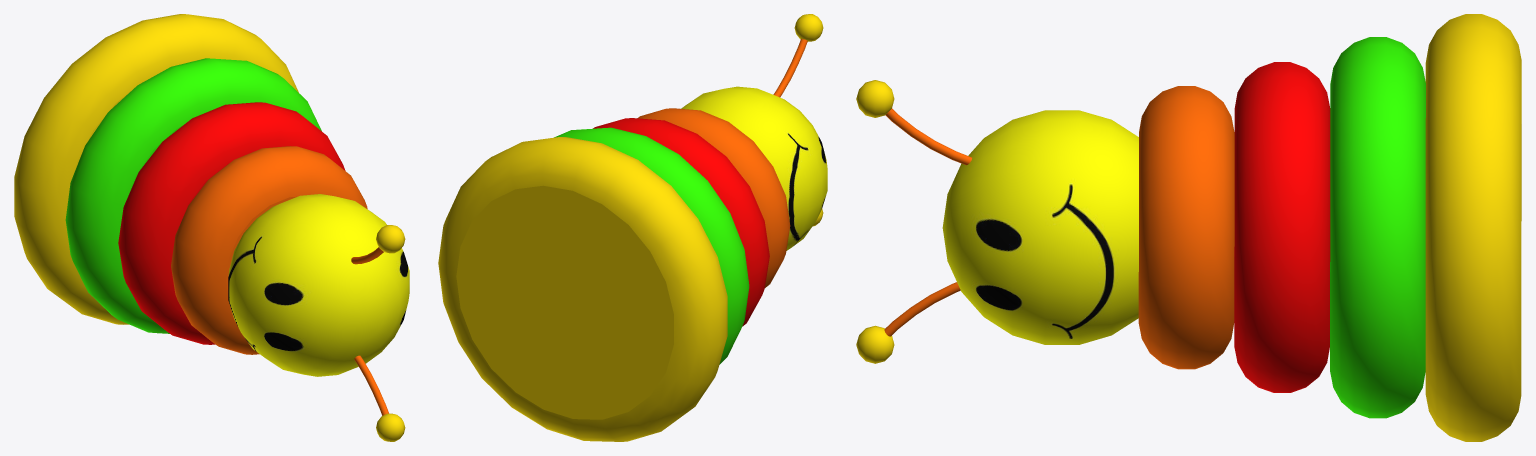
Rendered from smiley.obj.
The picture shows the model from 3 angles, left to right: view 1: azimuth 30°, elevation 25°; view 2: azimuth 150°, elevation 25°; view 3: azimuth 270°, elevation 25°; orthographic projection. The views are drawn at different scales.
Visible parts, largest first — view 1: Sphere001_5, Arc001_1, Arc005_2, Arc006_3, Arc007_4, Sphere002_6, Sphere003_8, Cylinder001_7; view 2: Arc001_1, Sphere001_5, Arc005_2, Arc006_3, Arc007_4, Sphere003_8, Cylinder002_9; view 3: Arc001_1, Sphere001_5, Arc005_2, Arc006_3, Arc007_4, Sphere003_8, Sphere002_6, Cylinder002_9, Cylinder001_7.
Boxes of the visible parts, box(x1,y1,x2,y2) form: Sphere001_5: box(228, 194, 409, 376); Arc001_1: box(14, 14, 298, 324); Arc005_2: box(65, 58, 321, 333); Arc006_3: box(118, 102, 345, 344); Arc007_4: box(171, 146, 367, 354); Sphere002_6: box(376, 413, 405, 441); Sphere003_8: box(376, 225, 405, 253); Cylinder001_7: box(354, 355, 388, 415); Arc001_1: box(438, 137, 727, 441); Sphere001_5: box(681, 86, 827, 250); Arc005_2: box(554, 127, 749, 364); Arc006_3: box(593, 118, 769, 326); Arc007_4: box(637, 108, 790, 287); Sphere003_8: box(794, 14, 823, 41); Cylinder002_9: box(773, 38, 807, 97); Arc001_1: box(1425, 14, 1521, 441); Sphere001_5: box(942, 110, 1138, 344); Arc005_2: box(1330, 37, 1425, 418); Arc006_3: box(1234, 62, 1330, 392); Arc007_4: box(1138, 86, 1234, 369); Sphere003_8: box(856, 80, 894, 117); Sphere002_6: box(856, 325, 894, 363); Cylinder002_9: box(885, 108, 971, 165); Cylinder001_7: box(884, 282, 960, 336).
Size of the model in its own units: 13.4 by 13.42 by 20.86.
